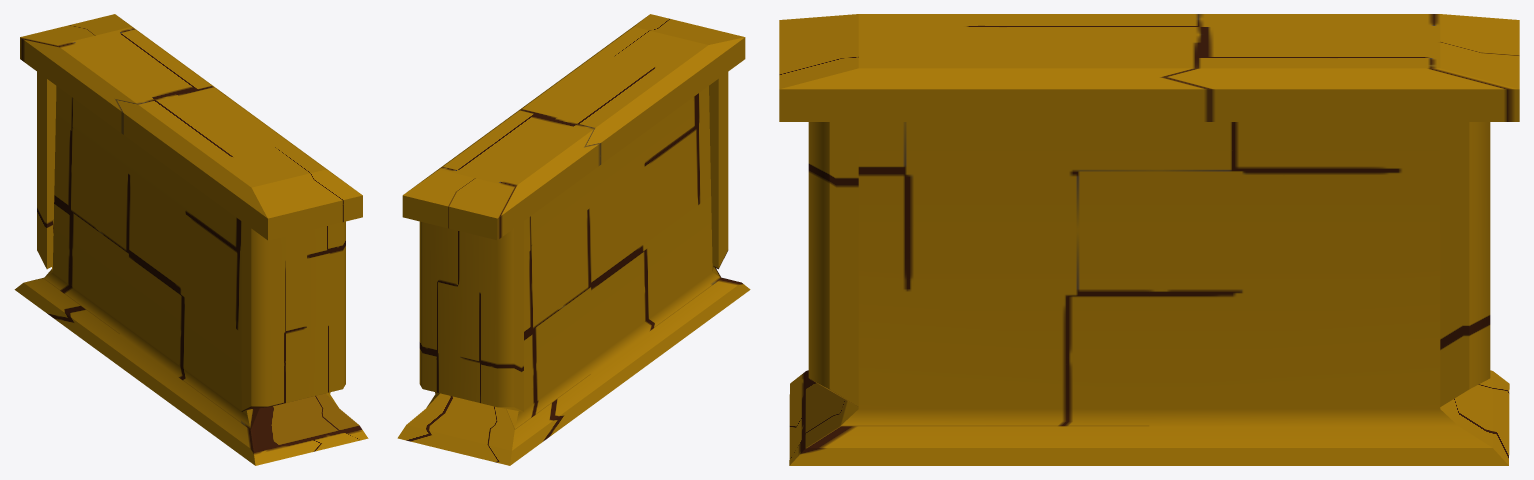
File: Rune.fbx
3 views of the same model, side by side, from view 1: azimuth 30°, elevation 25°; view 2: azimuth 150°, elevation 25°; view 3: azimuth 270°, elevation 25° (orthographic). The views are drawn at different scales.
Parts seen in each view (by area): view 1: pCube3; view 2: pCube3; view 3: pCube3.
Boxes of the visible parts, <box> form: pCube3: <box>14,14,368,465</box>; pCube3: <box>397,14,750,465</box>; pCube3: <box>779,14,1519,465</box>.
Size of the model in its own units: 61.69 by 134 by 234.
Materials: 1 (1 with a texture image).
